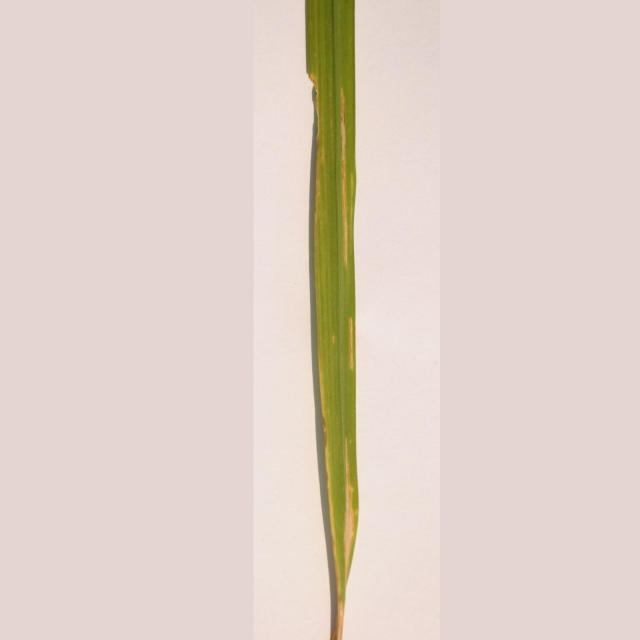Bacterial leaf blight: (334, 77, 357, 288), (338, 428, 362, 622), (314, 362, 332, 464), (342, 316, 361, 394)
